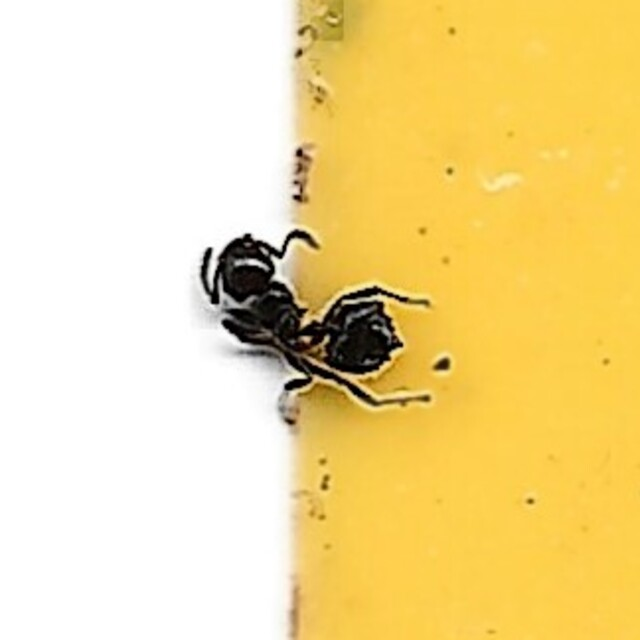Hymenoptera: (198, 227, 442, 413)
